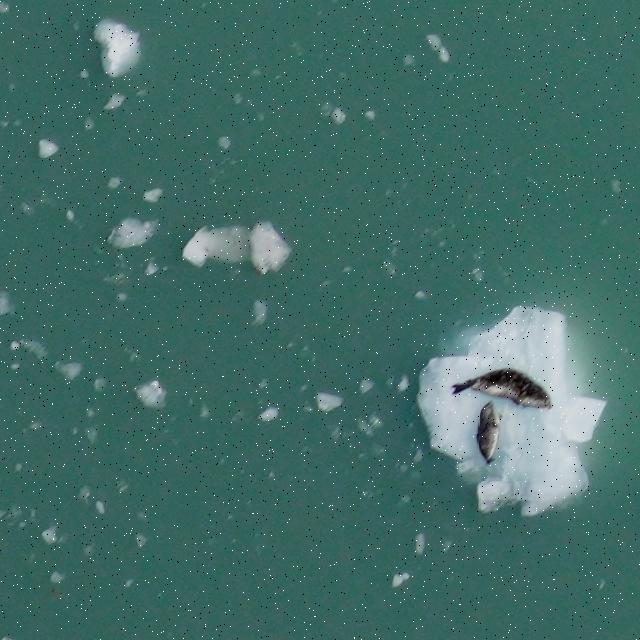seal: (449, 365, 558, 412), (474, 400, 508, 469)
